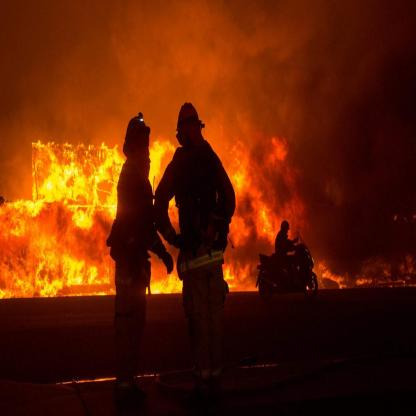fire: (3, 82, 112, 302), (211, 114, 307, 294), (150, 125, 183, 296), (320, 254, 380, 292)
